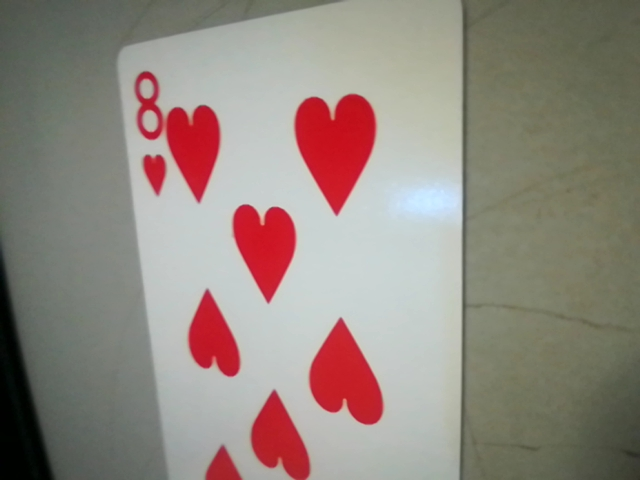hx 8: (123, 60, 179, 208)
